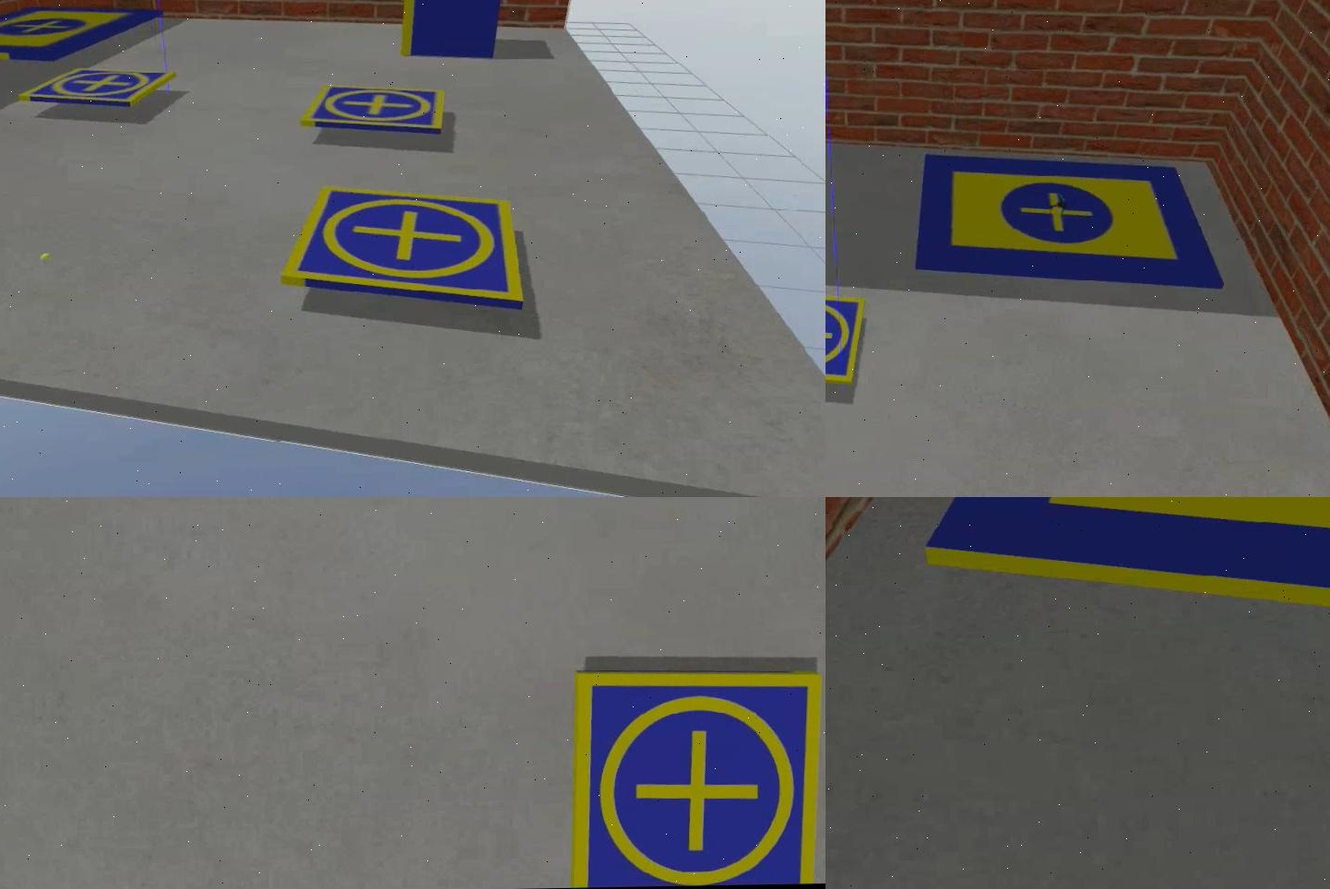large_base: (915, 498, 1328, 646), (909, 154, 1215, 293), (0, 4, 164, 65)
small_base: (569, 664, 822, 889), (279, 185, 522, 319), (297, 83, 446, 136), (18, 66, 180, 113), (824, 295, 861, 391)
